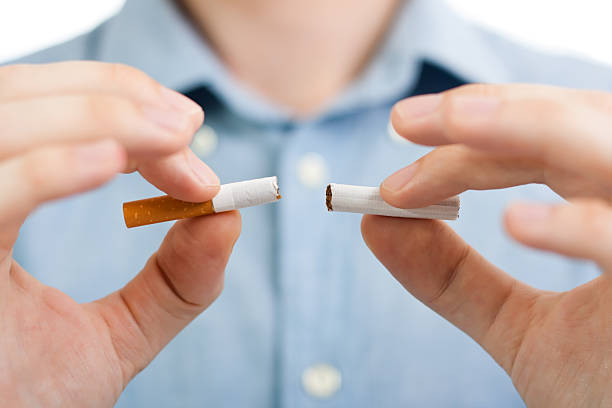cigarette: (120, 175, 280, 229), (324, 183, 461, 219)
